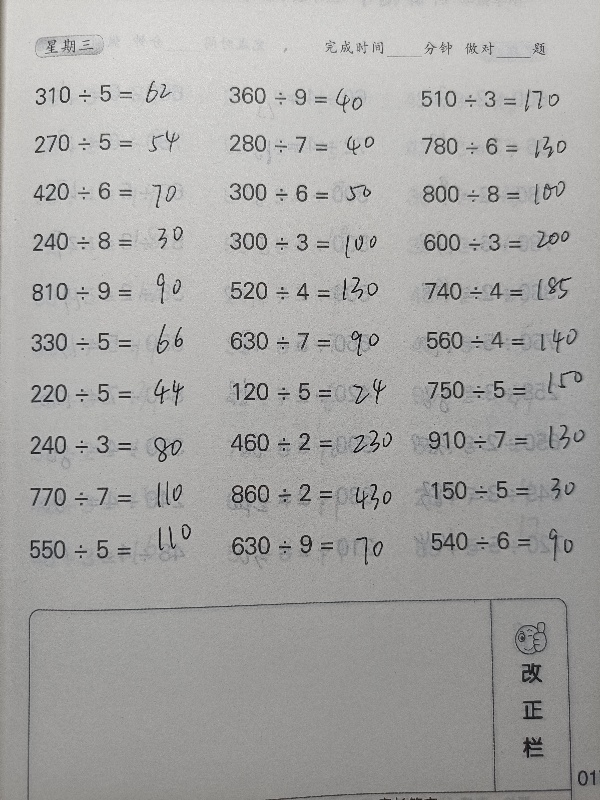equation: (420, 372, 600, 419), (222, 476, 402, 518), (221, 79, 401, 120), (222, 527, 402, 566), (418, 423, 598, 462), (221, 270, 401, 309), (413, 82, 593, 120), (22, 532, 202, 567), (21, 375, 201, 410), (22, 323, 202, 358), (412, 523, 592, 557), (22, 480, 202, 514), (413, 472, 593, 506), (22, 428, 202, 462), (222, 324, 402, 358), (23, 274, 203, 308), (221, 224, 401, 258), (24, 224, 204, 258), (221, 175, 401, 209), (25, 175, 205, 209), (221, 425, 401, 458), (224, 375, 404, 408), (418, 324, 598, 357), (417, 275, 597, 308), (415, 226, 595, 259), (414, 178, 594, 211), (414, 130, 594, 163), (221, 127, 401, 160), (26, 125, 206, 158), (26, 77, 206, 110)
